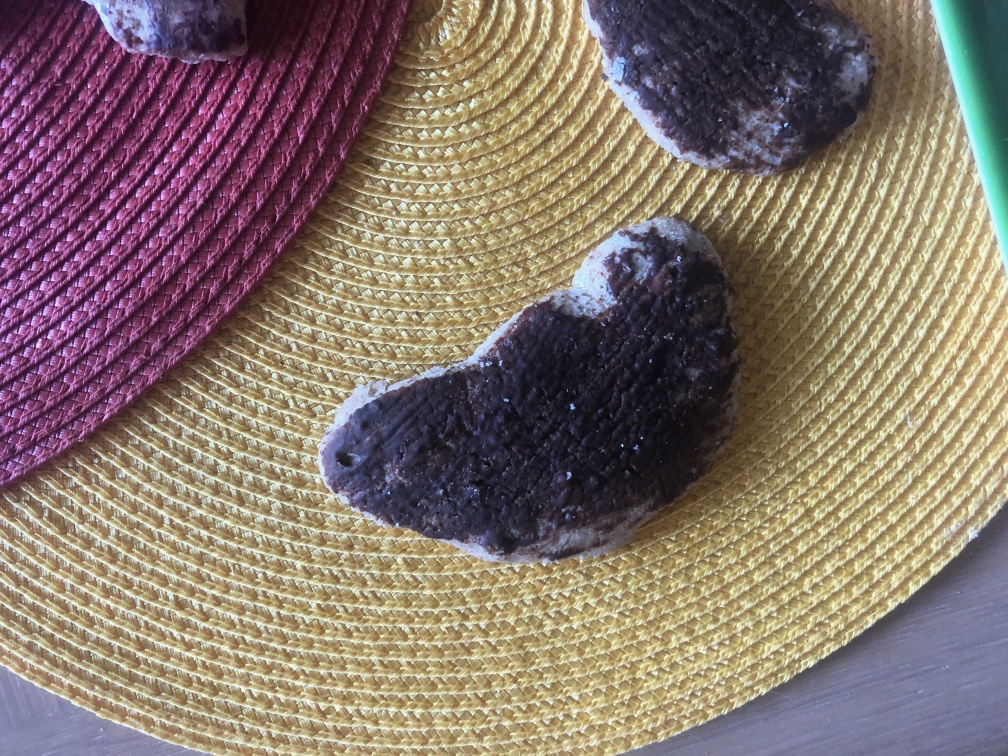weird #1: (313, 207, 745, 561), (578, 1, 876, 176)
